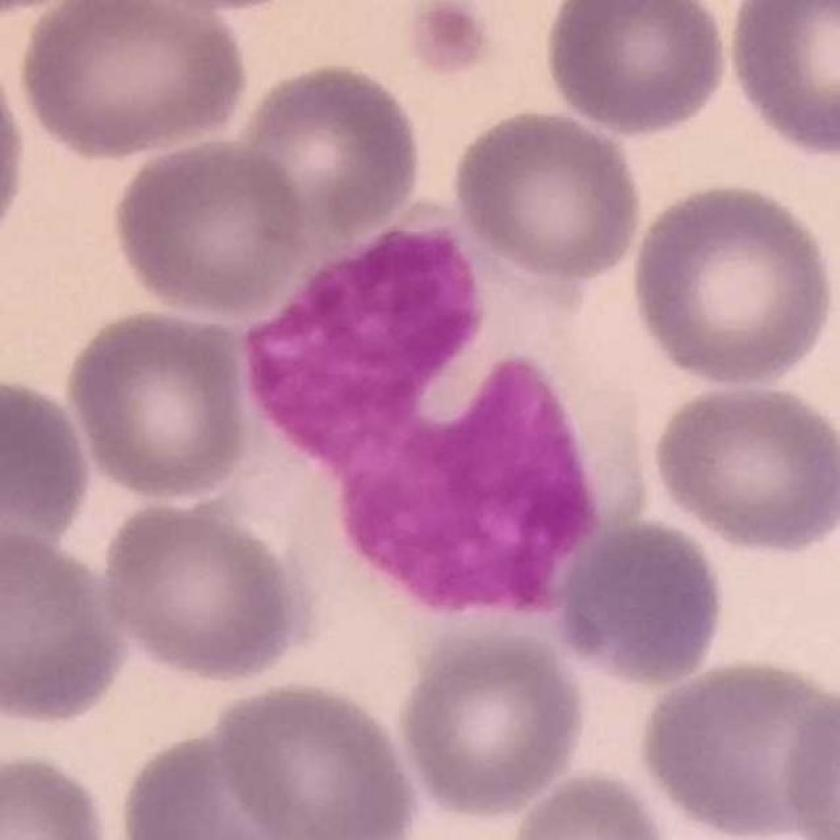monocyte: (228, 192, 668, 683)
